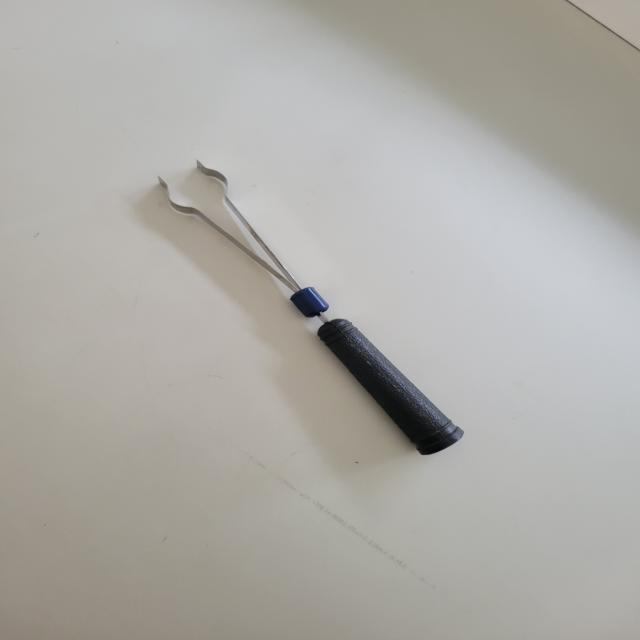TestTube_Holder: (93, 129, 490, 483)
